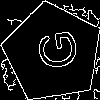G: (27, 27, 79, 73)
